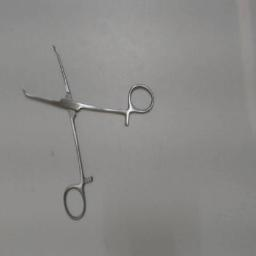Allis Tissue Forceps: (16, 37, 158, 225)
